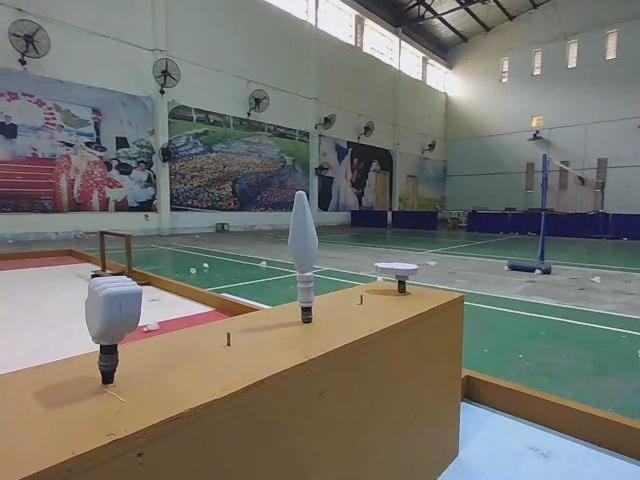Fist: (86, 268, 147, 388)
Hand: (376, 260, 420, 293)
Sph: (286, 190, 320, 329)
